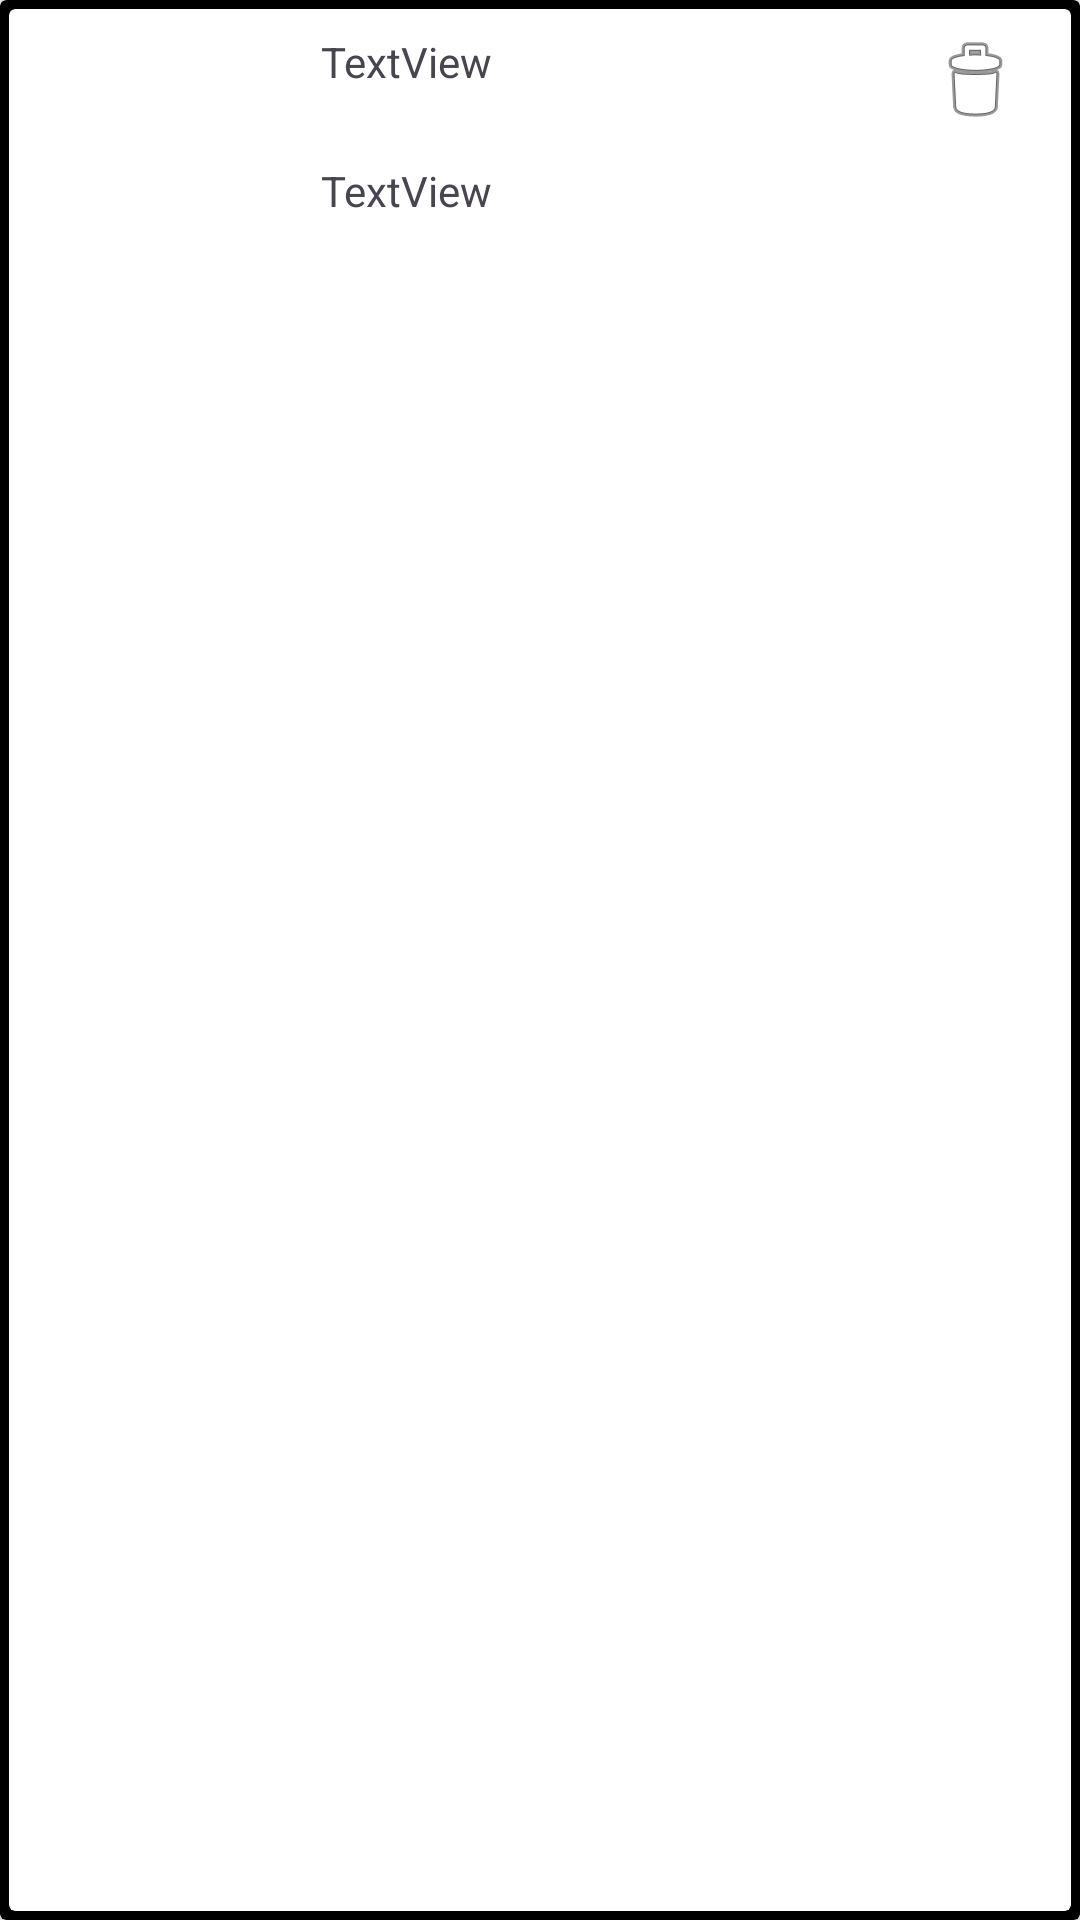

Icons on this 1080px x 1920px Android screen, each with its box as (x1, y1, x2, y2):
delete: (948, 42, 1003, 117)
